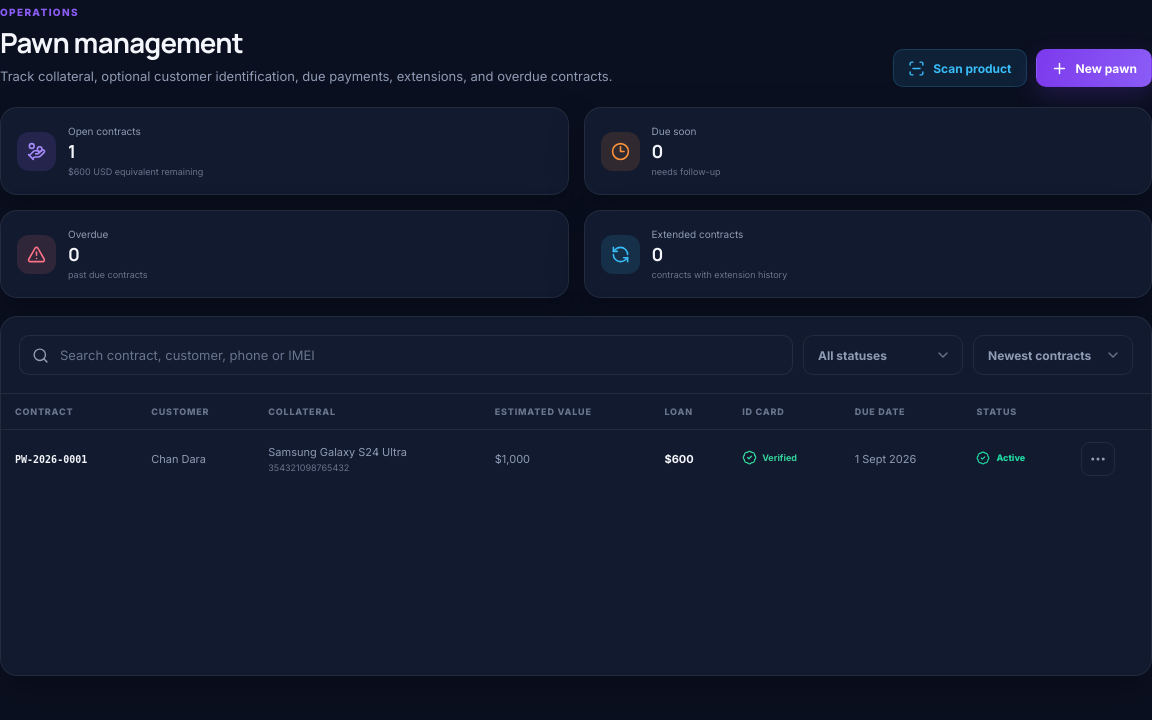
Test: PawnManagementPage feature integration › successfully deletes a pawn contract, closes modal, refreshes list, and displays success toast
Expected: the text "PW-2026-0001" is shown, top-left (15, 454), bottom-right (87, 465)
Open detail modal
What coordinates should you click on to do the following:
click the button named "View PW-2026-0001"
I would click on:
 (1098, 459)
Its box is top-left (1081, 442), bottom-right (1115, 476).
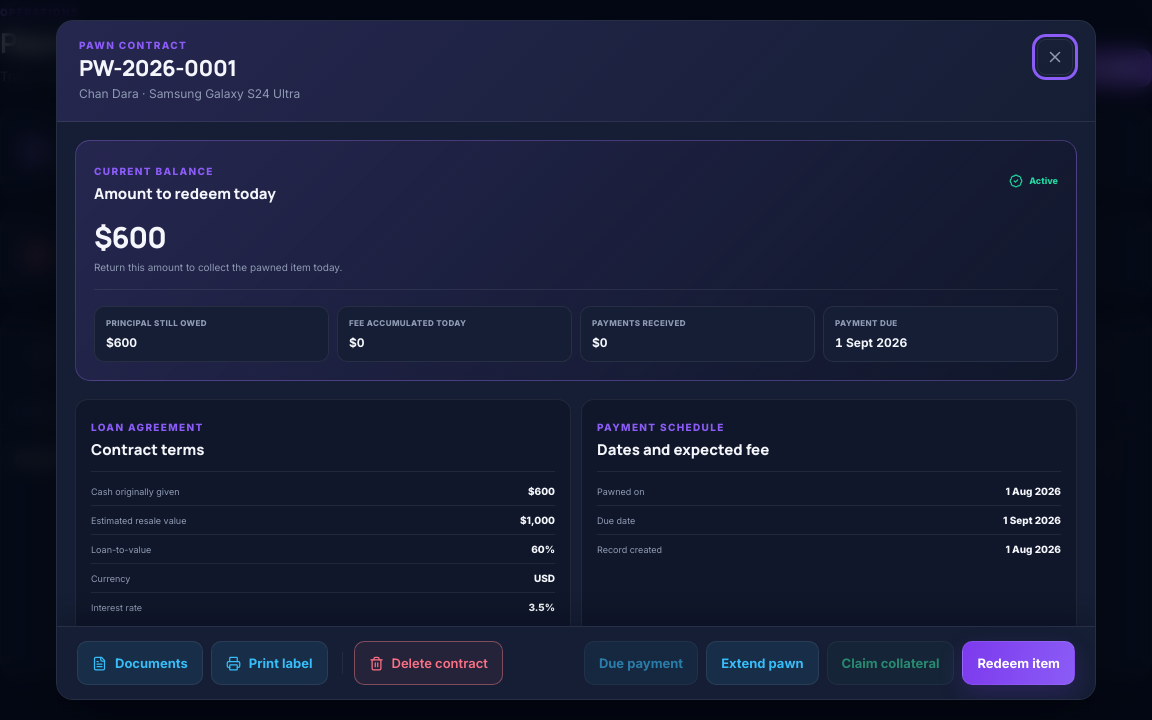
Expected: the dialog is shown
Click delete contract to show confirmation
What coordinates should you click on to do the following:
click the button "Delete contract"
I would click on:
 (428, 663)
Its box is top-left (354, 641), bottom-right (503, 685).
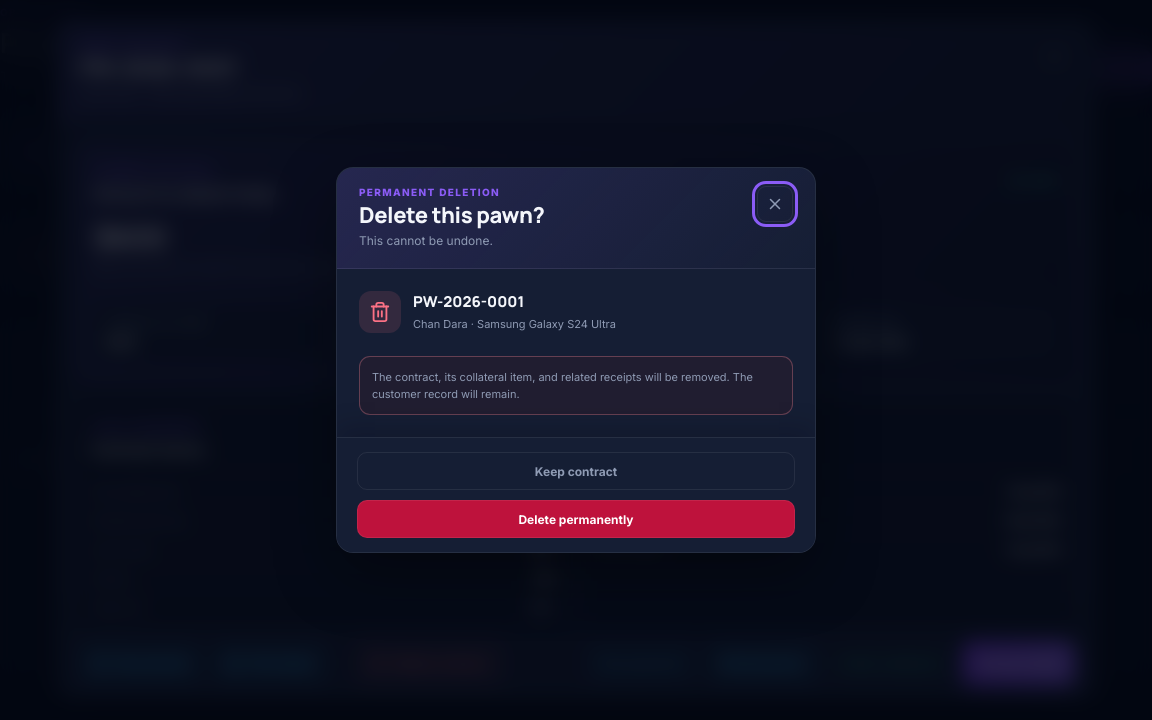
Expected: the heading "Delete this pawn?" is shown, top-left (359, 200), bottom-right (544, 230)
Confirm deletion
What coordinates should you click on to do the following:
click the button "Delete permanently"
I would click on:
 (576, 519)
Its box is top-left (357, 500), bottom-right (795, 538).
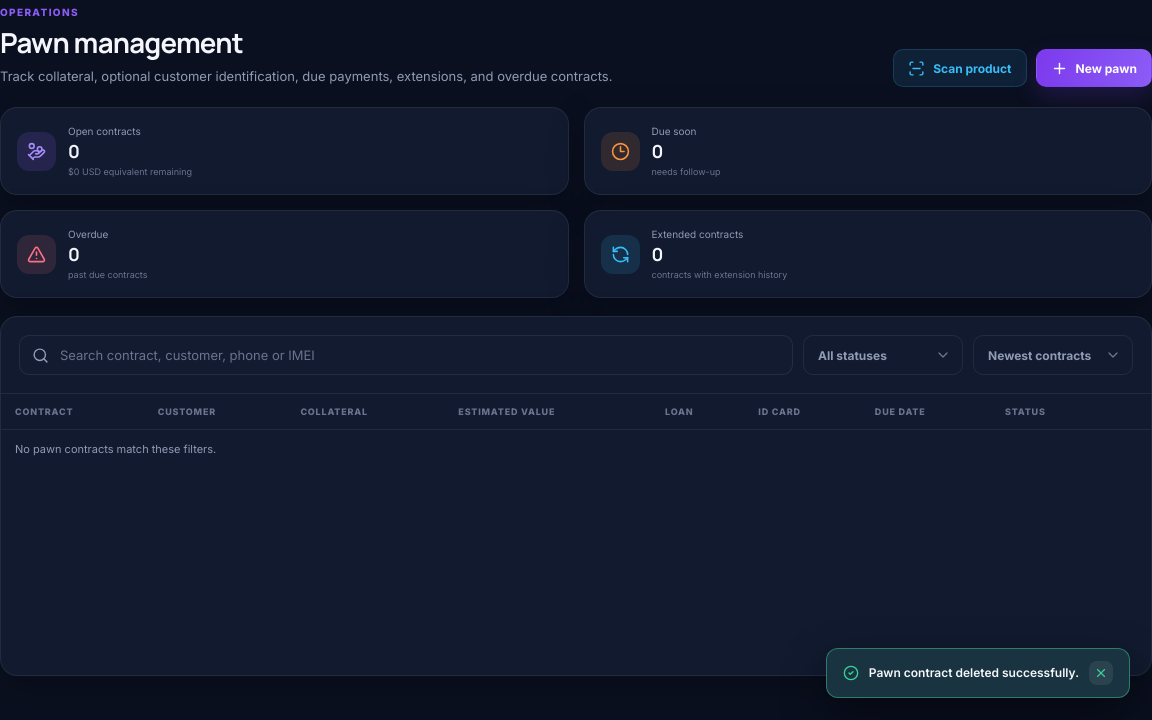
Expected: the dialog is gone
Expected: the text "PW-2026-0001" is gone
Expected: the message "Pawn contract deleted successfully." is shown, top-left (826, 648), bottom-right (1130, 698)
Manually dismiss the toast
What coordinates should you click on to do the following:
click the button named "Dismiss message"
I would click on:
 (1101, 673)
Its box is top-left (1089, 661), bottom-right (1113, 685).
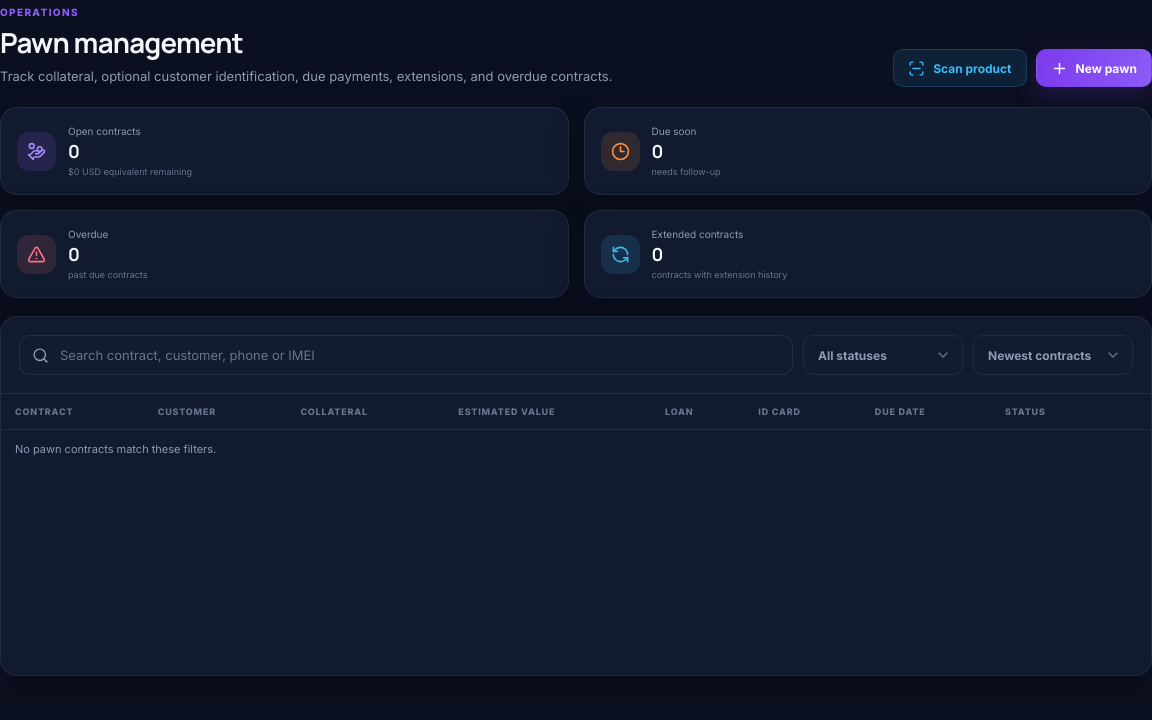
Expected: the text "Pawn contract deleted successfully." is gone
